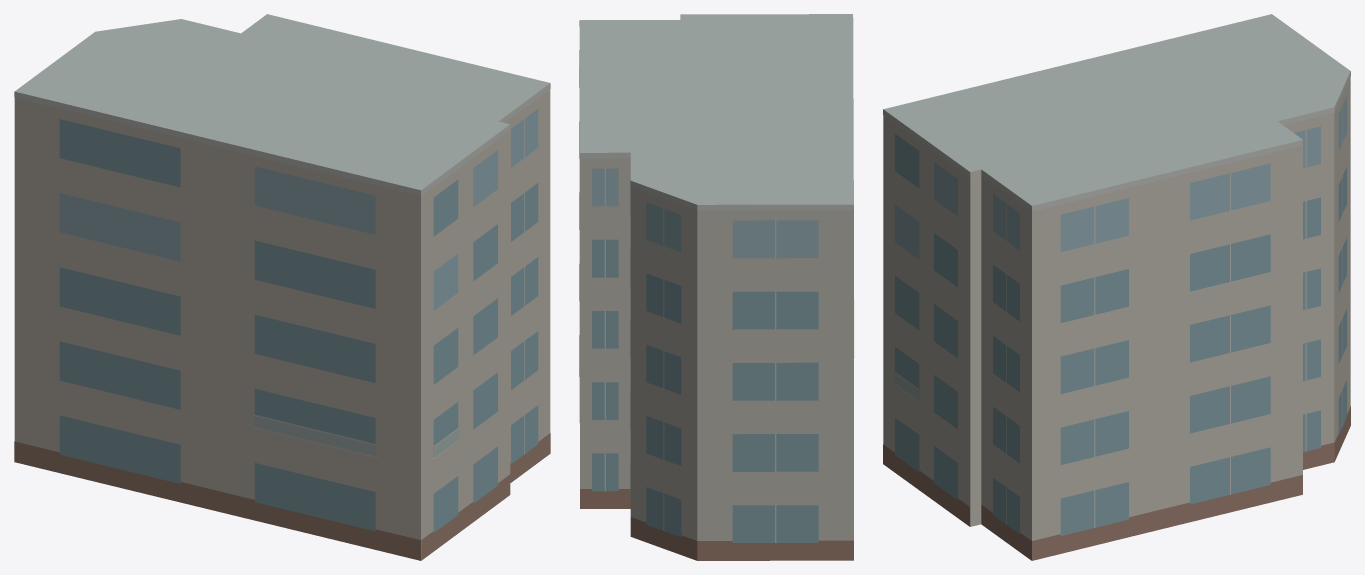
File: survey-upis-32794179.glb
3 renders of one model, left to right at view 1: azimuth 30°, elevation 25°; view 2: azimuth 150°, elevation 25°; view 3: azimuth 270°, elevation 25°, orthographic. The views are drawn at different scales.
Parts seen in each view (by area): view 1: survey-upis-32794179.tmp; view 2: survey-upis-32794179.tmp; view 3: survey-upis-32794179.tmp.
Part boxes in pixels (box(x1,y1,x2,y2)): survey-upis-32794179.tmp: box(14, 14, 550, 560); survey-upis-32794179.tmp: box(579, 14, 854, 560); survey-upis-32794179.tmp: box(883, 14, 1350, 560).
Size of the model in its own units: 17.7 by 15.25 by 18.21.
